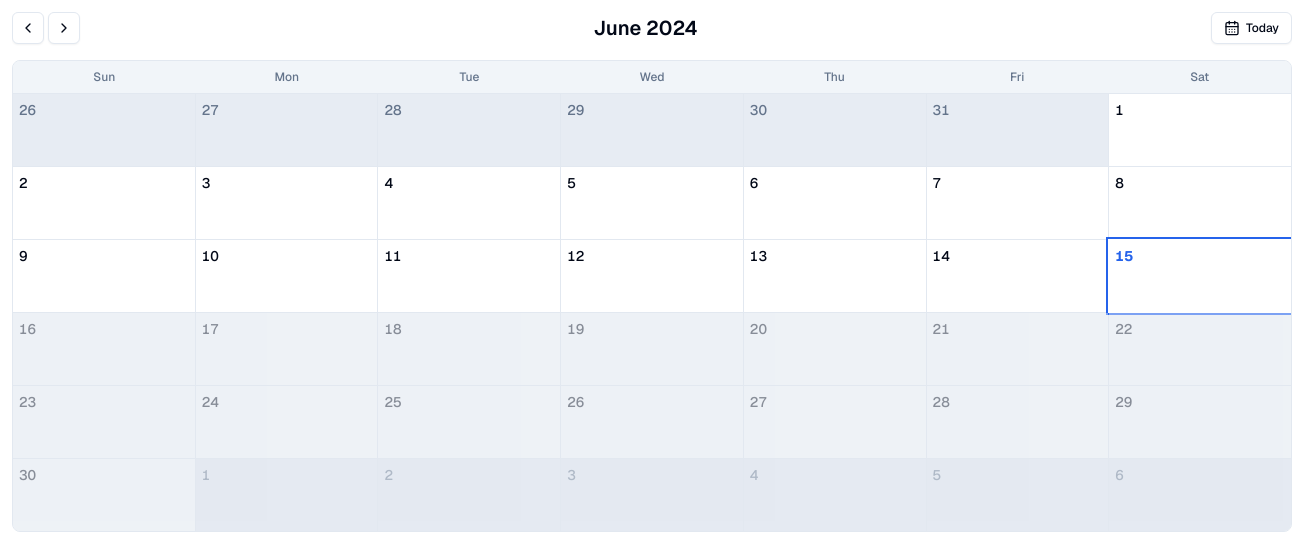
Calendar › navigates to next month
The image size is (1304, 549).
Click the button named "Next month" at (64, 28), box [48,12,80,44]
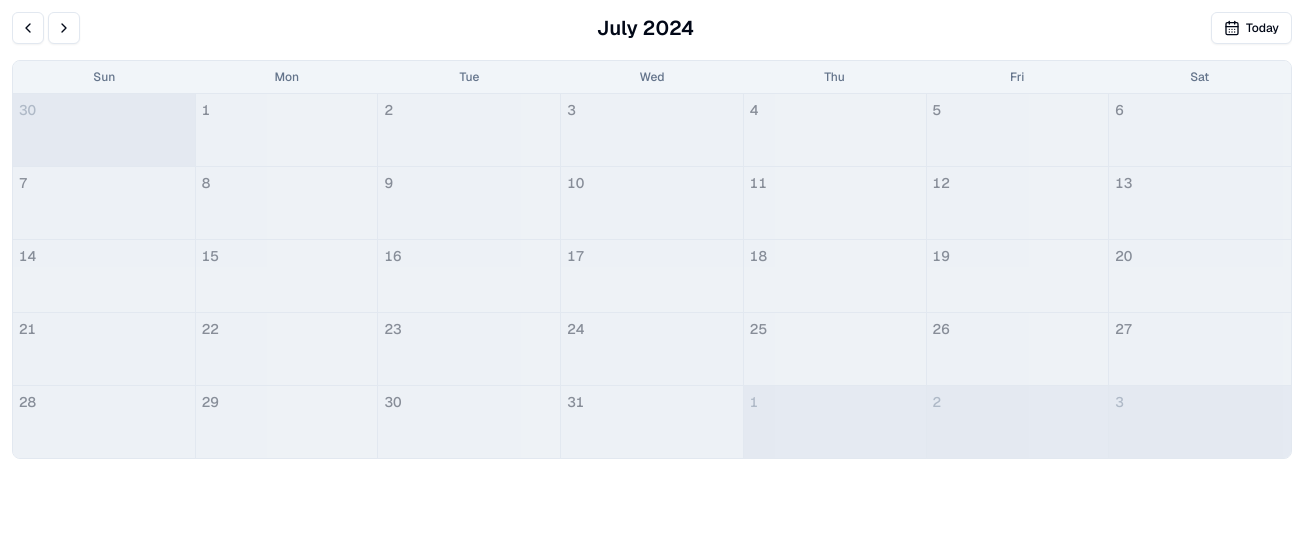
Expected: the heading "July 2024" is shown, [597,14,694,42]
